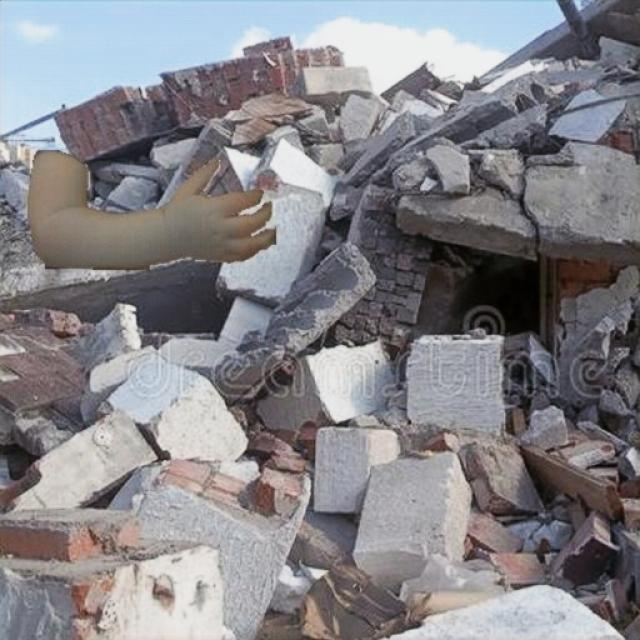Person in Rubble: (26, 150, 275, 269)
